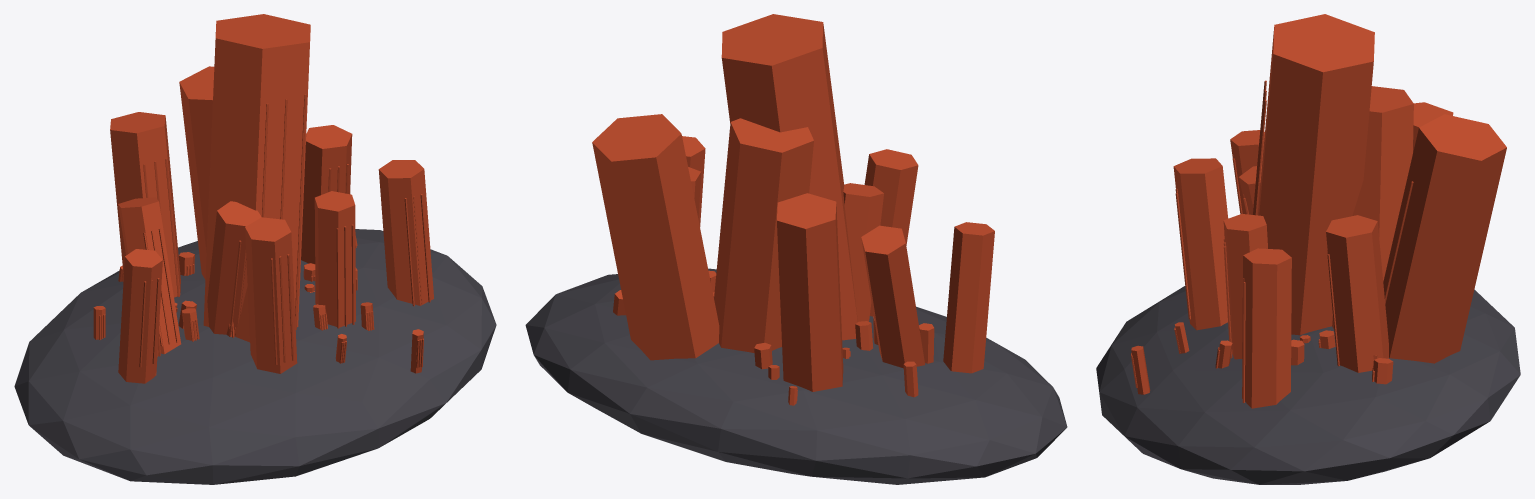
The model's file is vanadinite.glb.
3 renders of one model, left to right at view 1: azimuth 30°, elevation 25°; view 2: azimuth 150°, elevation 25°; view 3: azimuth 270°, elevation 25°, orthographic. The views are drawn at different scales.
Visible parts, largest first — view 1: Vanadinite; view 2: Vanadinite; view 3: Vanadinite.
Boxes of the visible parts, x1,y1,x2,y2 form: Vanadinite: (14, 14, 496, 484); Vanadinite: (525, 14, 1067, 484); Vanadinite: (1096, 14, 1520, 484).
Bounding box in the file's own units: 3.96 × 3.19 × 3.03.
